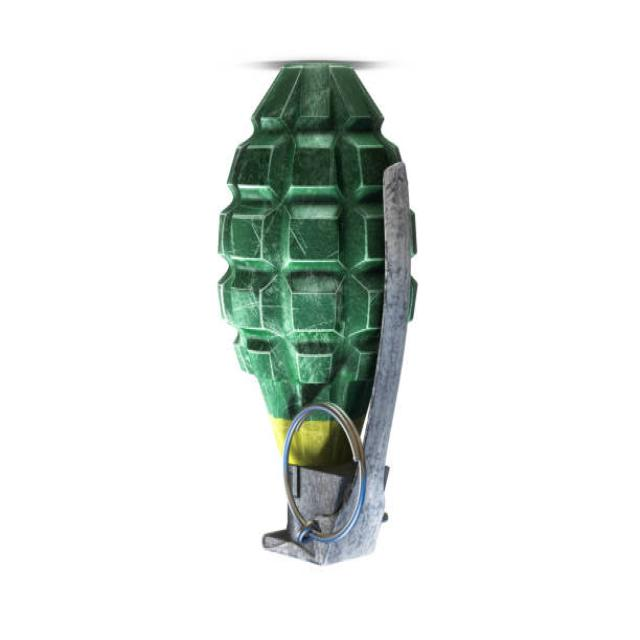grenade: (210, 52, 424, 582)
